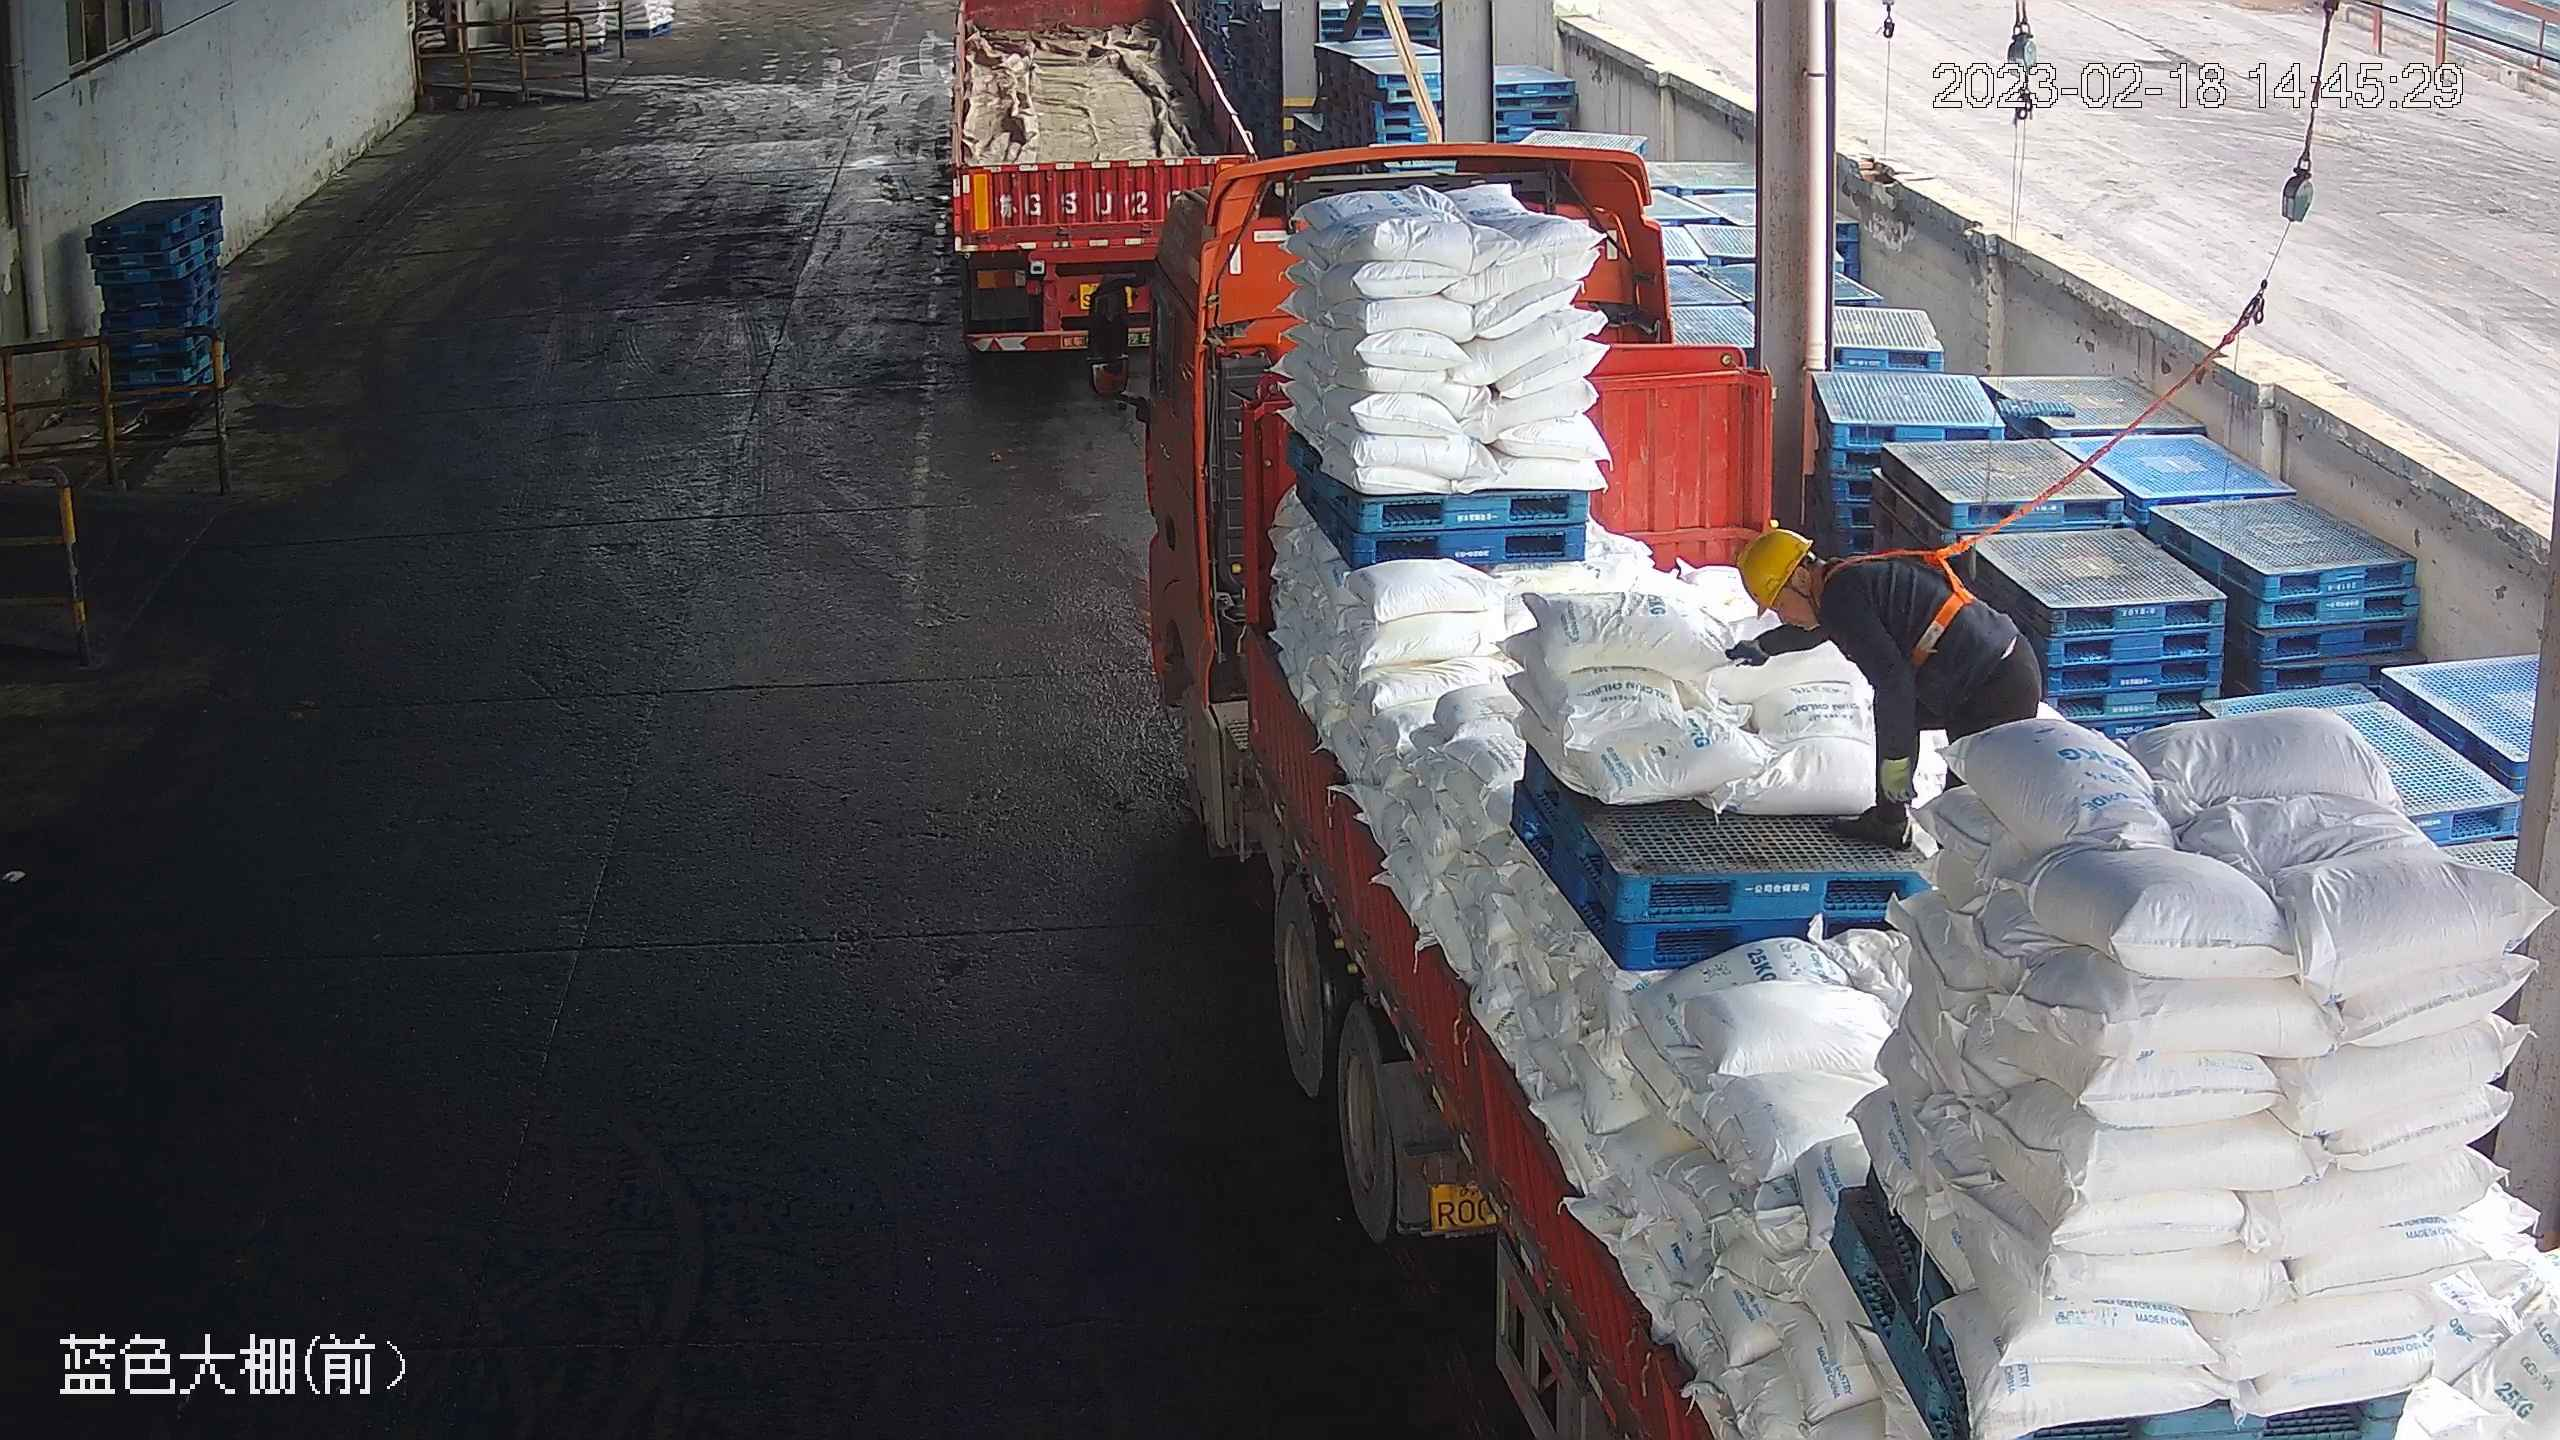belt: (1833, 542, 1991, 665)
head: (1733, 525, 1902, 659)
helmet: (1735, 526, 1815, 619)
people: (1722, 527, 2042, 855)
truck: (1087, 138, 2554, 1434), (953, 1, 1262, 353)
